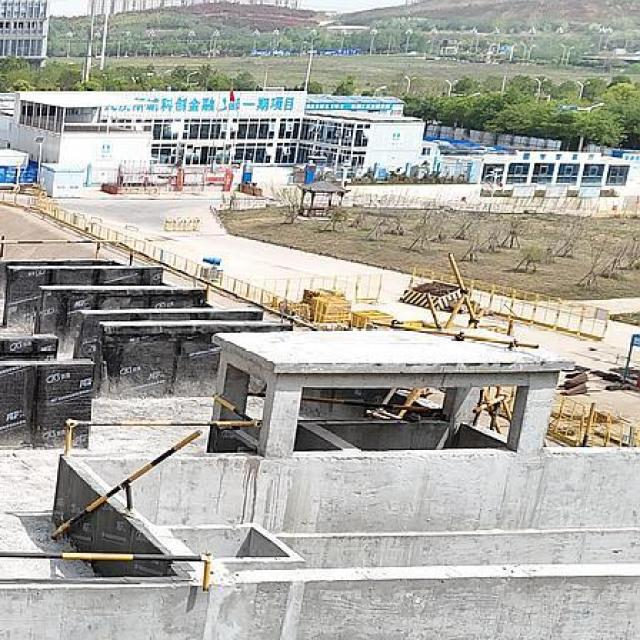edge_guardrail: (1, 238, 319, 332), (48, 429, 205, 541), (63, 393, 263, 456), (0, 550, 213, 593)
